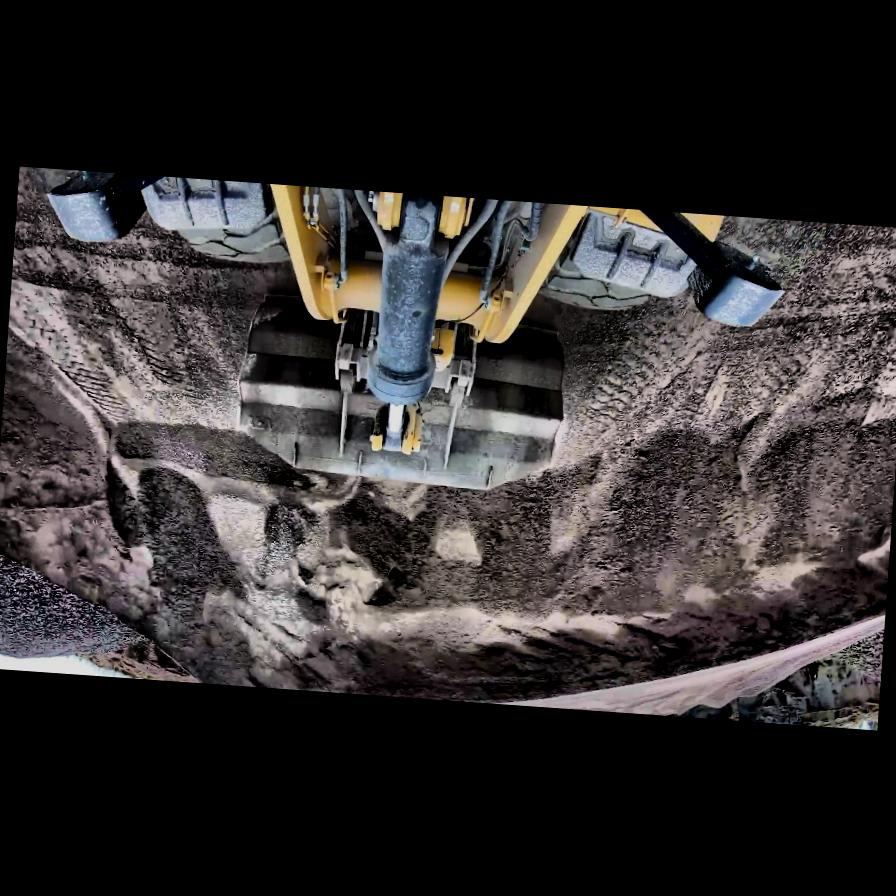anchor: (369, 399, 424, 456)
pile of gravel: (0, 440, 893, 730), (0, 548, 147, 668), (822, 602, 886, 691)
